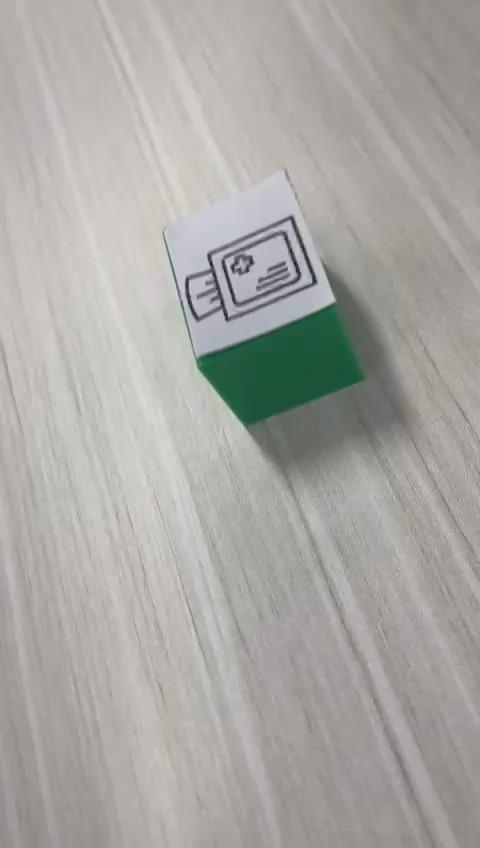Gauze: (161, 165, 365, 427)
